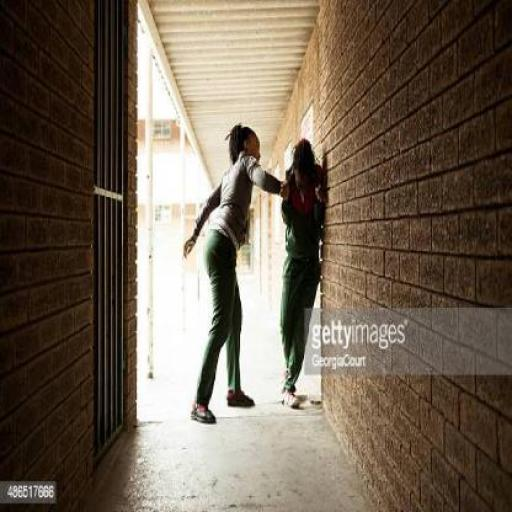Fighting: (181, 120, 323, 425)
